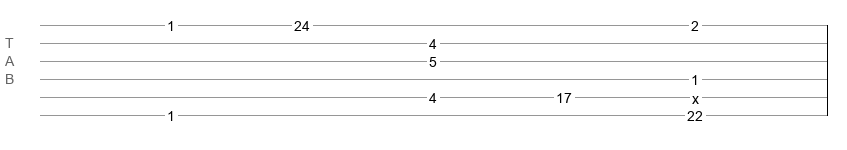1: (167, 108, 175, 118), (167, 18, 175, 28), (691, 72, 699, 82)
17: (556, 90, 572, 100)
2: (691, 18, 699, 28)
22: (687, 108, 703, 118)
24: (294, 18, 310, 28)
4: (429, 36, 437, 46), (429, 90, 437, 100)
5: (429, 54, 437, 64)
x: (692, 91, 699, 99)
